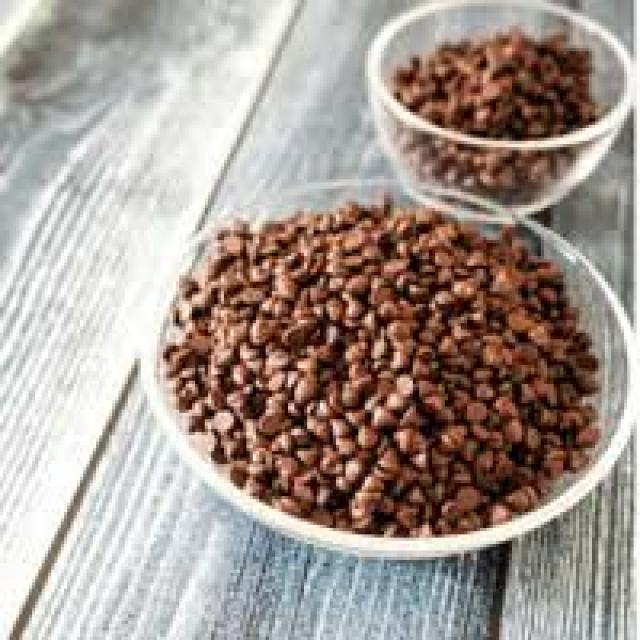Chocolate: (160, 194, 603, 540), (368, 36, 600, 210)
